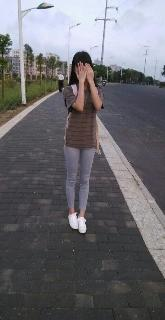short sleeve top: (62, 83, 104, 147)
trousers: (64, 135, 96, 211)
